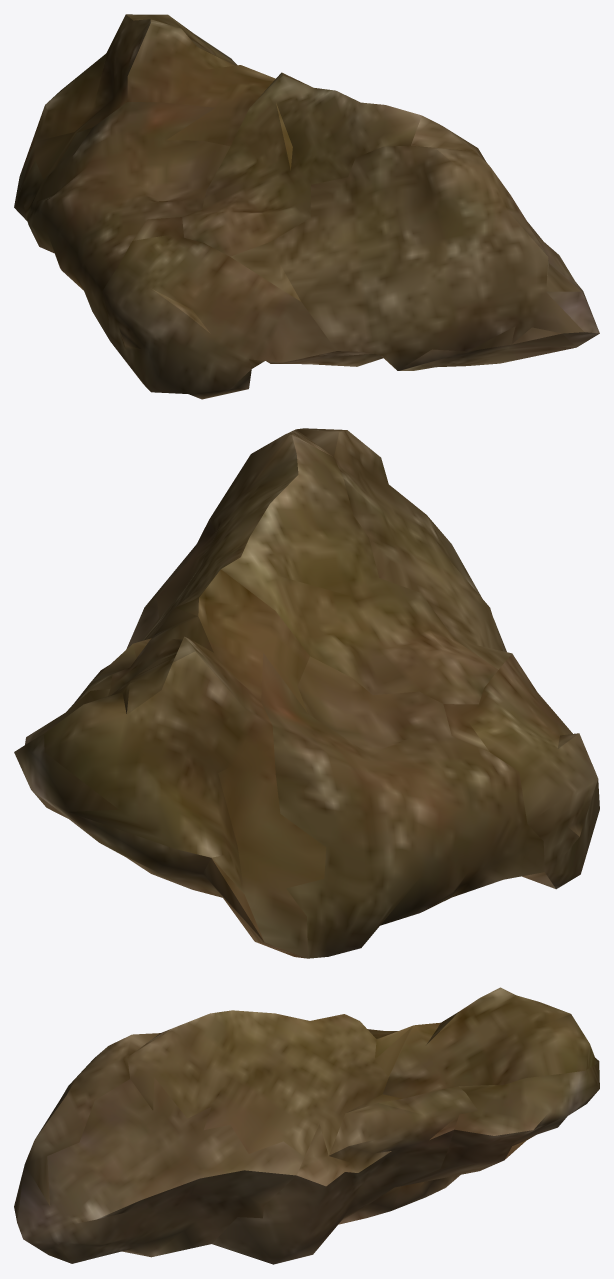
File: rock_set_1.glb
3 views of the same model, one above another, from view 1: azimuth 30°, elevation 25°; view 2: azimuth 150°, elevation 25°; view 3: azimuth 270°, elevation 25° (orthographic). The views are drawn at different scales.
Parts seen in each view (by area): view 1: rock_set_1; view 2: rock_set_1; view 3: rock_set_1.
Boxes of the visible parts, <box> form: rock_set_1: <box>14,14,599,399</box>; rock_set_1: <box>14,428,599,958</box>; rock_set_1: <box>14,987,599,1264</box>.
Bounding box in the file's own units: 2.24 × 1.48 × 3.36.
1 material, 1 textured.
